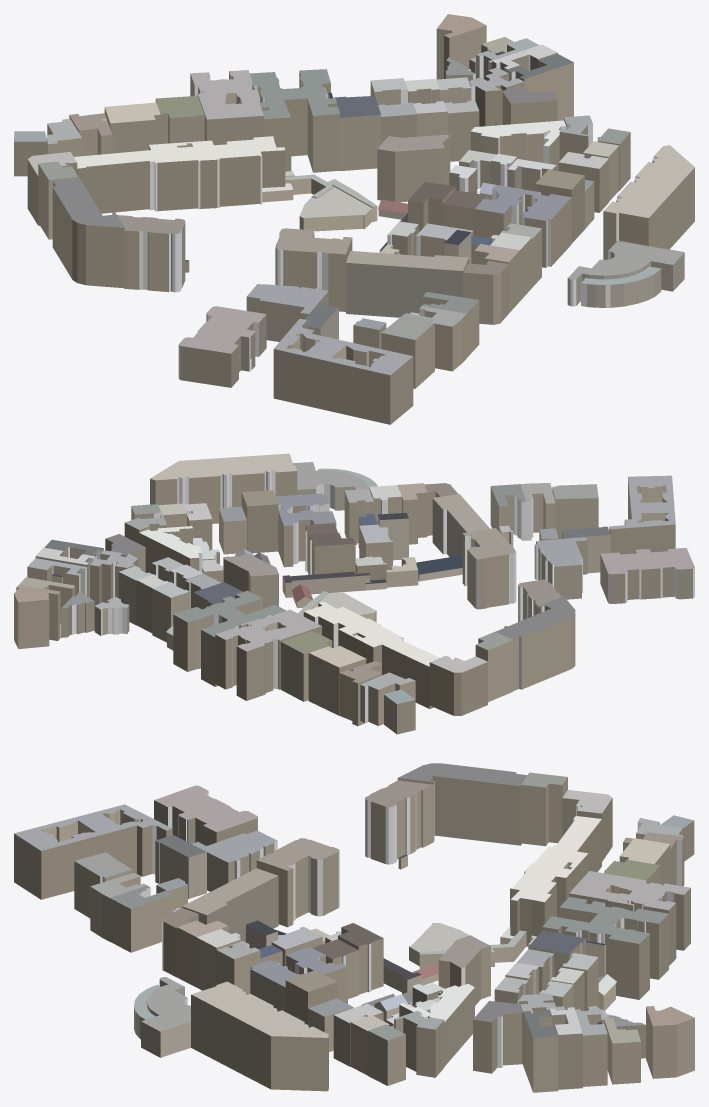
3 views of the same model, one above another, from view 1: azimuth 30°, elevation 25°; view 2: azimuth 150°, elevation 25°; view 3: azimuth 270°, elevation 25° (orthographic). The views are drawn at different scales.
Parts seen in each view (by area): view 1: tuile; view 2: tuile; view 3: tuile.
Boxes of the visible parts, left/top/right/bottom form: tuile: left=14, top=14, right=694, bottom=424; tuile: left=14, top=453, right=694, bottom=734; tuile: left=14, top=763, right=694, bottom=1092.
Bounding box in the file's own units: 272 × 33.31 × 288.
